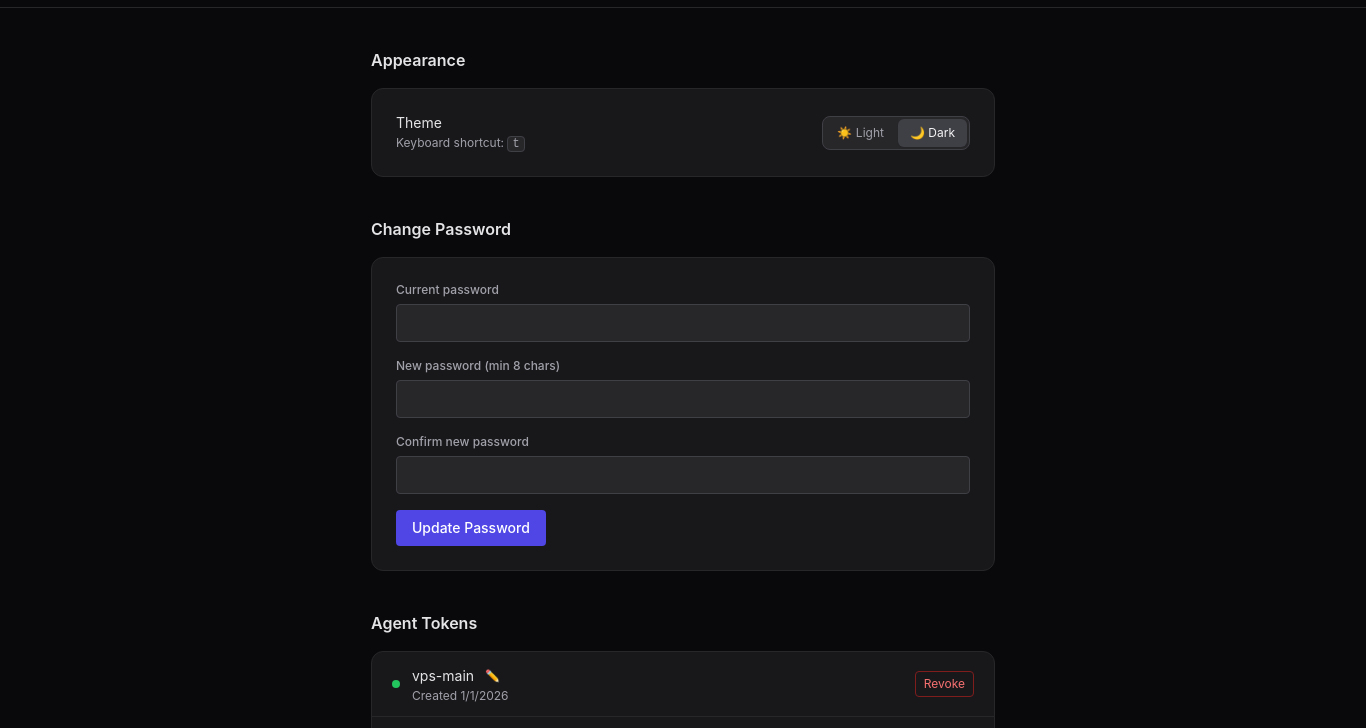
Test: token revoke › clears a stale error when a later confirmation is cancelled
Click the button "Revoke" at (944, 684), box left=915, top=671, right=974, bottom=697
(page scrolled)
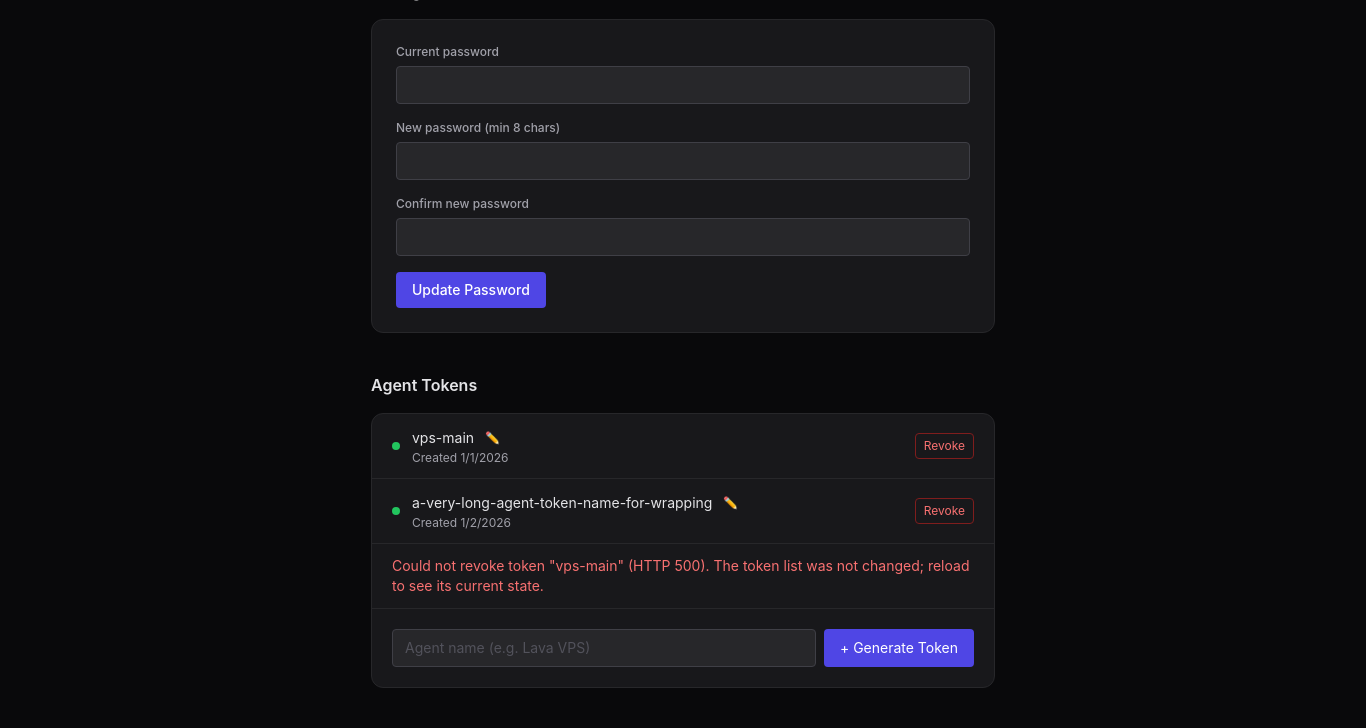
Expected: the message is shown, left=372, top=543, right=994, bottom=608
Click the button "Revoke" in the row of "1/2/2026" at (944, 511), box left=915, top=498, right=974, bottom=524
(page scrolled)
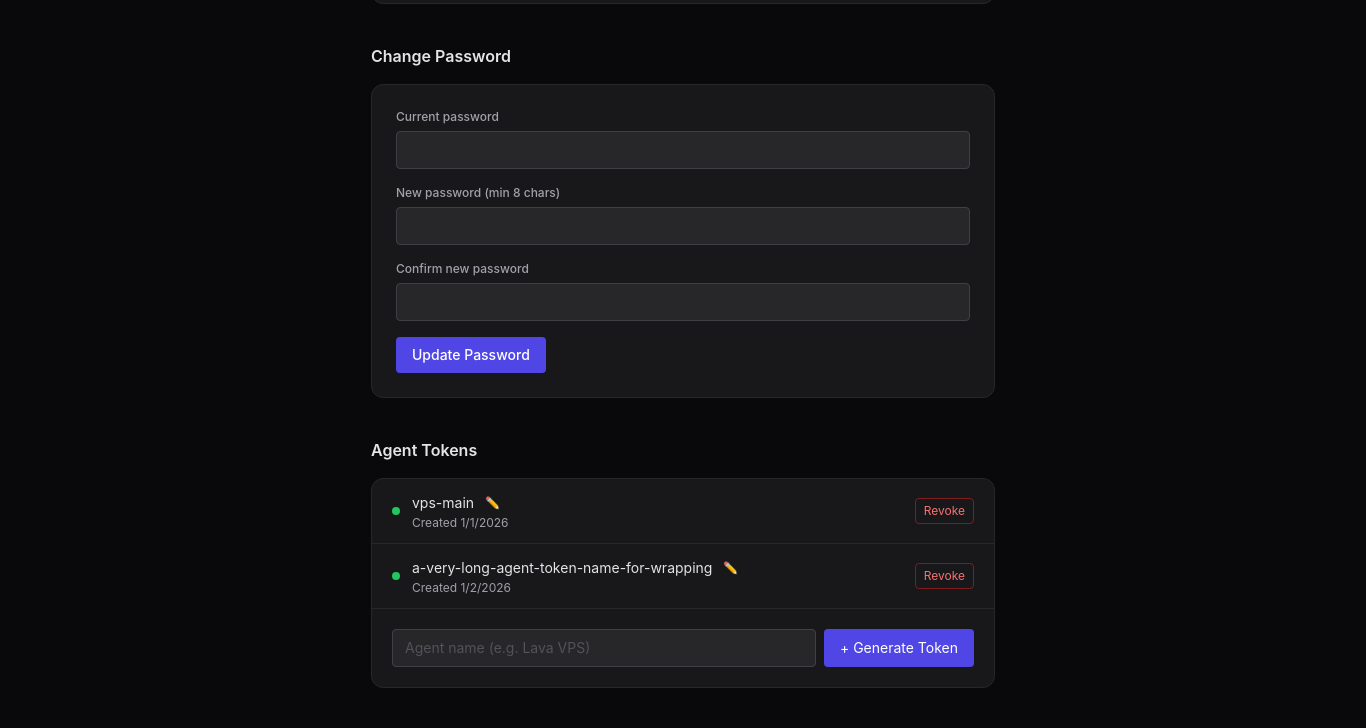
Expected: the message is gone
